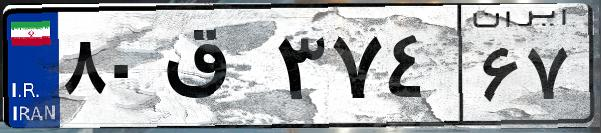0: (110, 28, 158, 98)
3: (270, 28, 330, 110)
4: (385, 28, 445, 110)
6: (475, 38, 525, 113)
7: (330, 28, 385, 110), (525, 38, 570, 115)
8: (57, 26, 110, 100)
ق: (158, 20, 270, 120)
